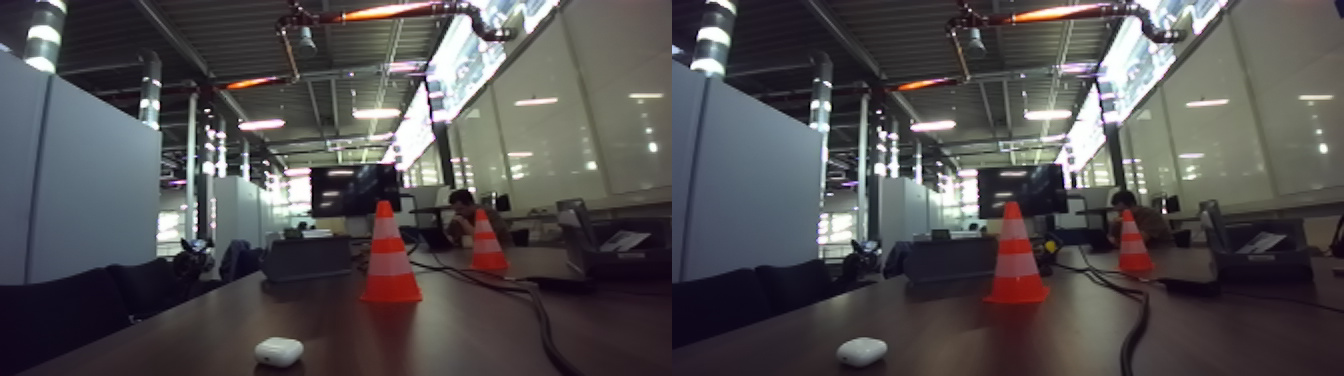cone: (372, 182, 442, 322), (991, 203, 1055, 311), (468, 192, 519, 288), (1120, 209, 1160, 283)
